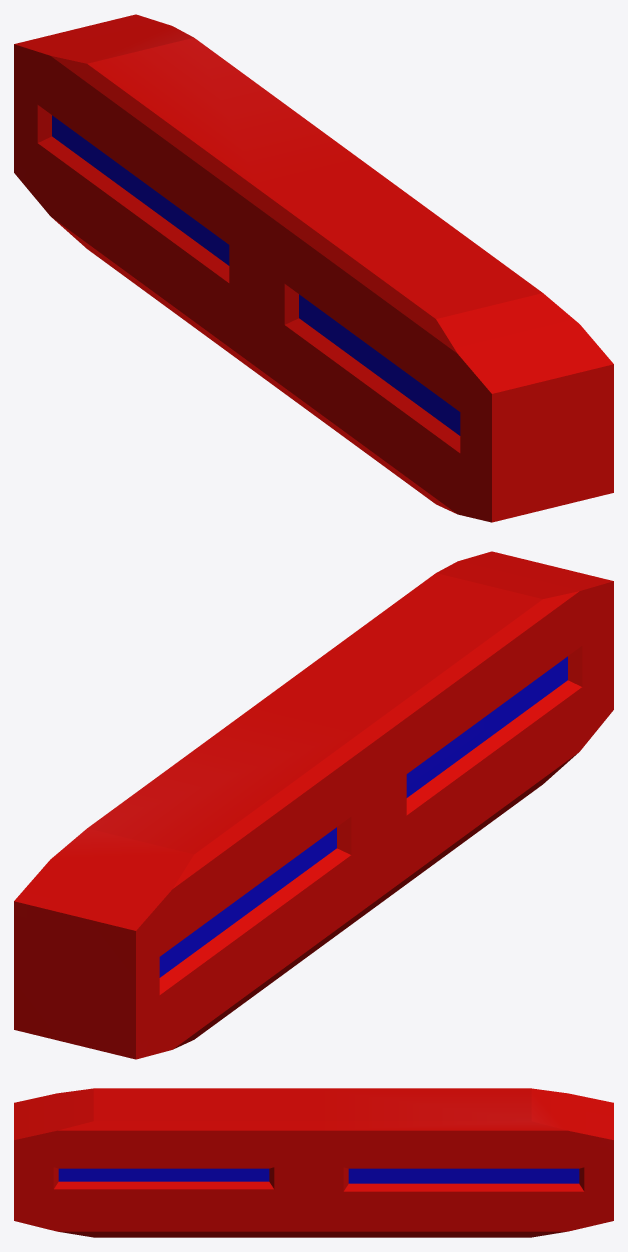
The model's file is CitySupport.fbx.
3 views of the same model, one above another, from view 1: azimuth 30°, elevation 25°; view 2: azimuth 150°, elevation 25°; view 3: azimuth 270°, elevation 25° (orthographic). The views are drawn at different scales.
Parts seen in each view (by area): view 1: Cube; view 2: Cube; view 3: Cube.
Boxes of the visible parts, box(x1,y1,x2,y2) form: Cube: box(14, 14, 613, 522); Cube: box(14, 551, 613, 1059); Cube: box(14, 1088, 613, 1237).
Size of the model in its own units: 5.9 by 8.55 by 40.
